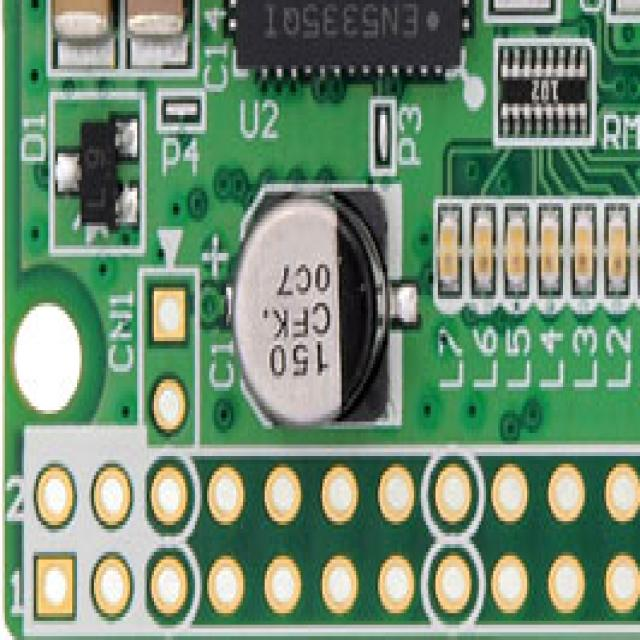IC: (219, 0, 474, 80)
LED: (570, 203, 599, 307), (537, 196, 563, 310), (500, 199, 527, 307), (604, 199, 630, 307), (469, 199, 493, 307), (433, 192, 457, 299), (635, 192, 640, 310)
capacitor: (43, 0, 118, 73), (120, 0, 198, 65), (479, 0, 553, 19), (606, 0, 639, 15)
component text: (255, 245, 332, 384), (252, 0, 423, 38), (80, 134, 108, 215), (527, 69, 558, 103)
connector: (24, 444, 640, 628), (140, 272, 192, 433)
diode: (48, 92, 142, 249)
electrolytic capacitor: (238, 180, 402, 426)
resistor: (491, 38, 594, 134)
test point: (366, 92, 392, 169), (159, 88, 207, 123)
